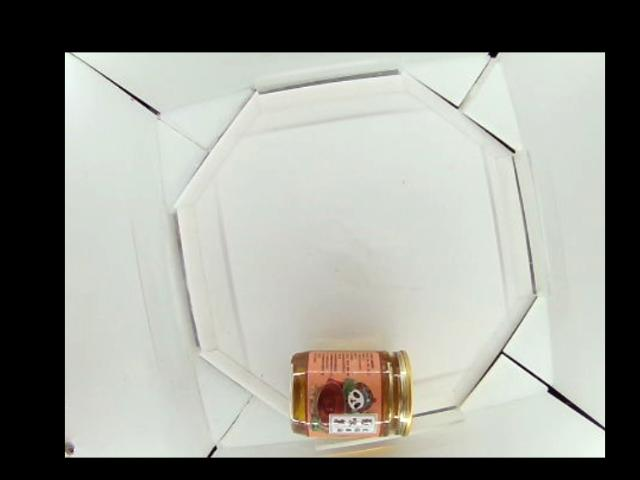Bottle: (290, 347, 413, 439)
